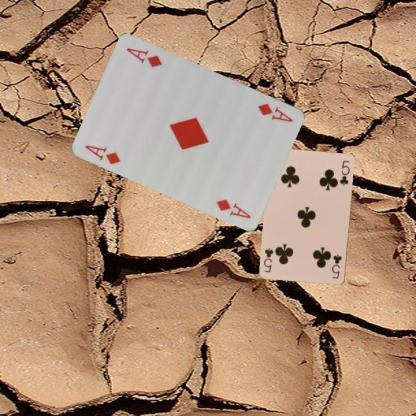5c: (329, 252, 343, 280)
Ad: (255, 100, 295, 124), (82, 142, 122, 165)
